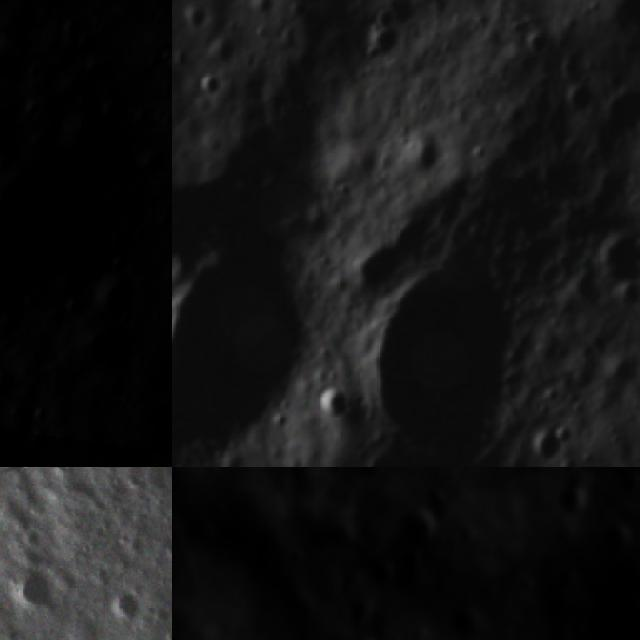crater: (358, 242, 552, 467), (172, 251, 346, 467), (0, 136, 107, 265), (54, 100, 131, 178), (2, 558, 74, 632), (83, 260, 151, 326), (0, 83, 41, 172), (100, 578, 158, 636), (597, 227, 640, 292), (402, 134, 451, 188), (310, 386, 376, 426), (363, 27, 412, 71), (10, 520, 56, 566), (394, 514, 440, 556), (595, 599, 640, 640), (196, 34, 242, 72), (559, 78, 599, 120), (186, 68, 229, 105), (0, 358, 30, 409), (58, 289, 96, 327), (367, 558, 400, 592), (612, 562, 640, 601), (453, 607, 485, 639), (606, 524, 633, 557), (556, 486, 580, 521), (424, 486, 451, 515), (511, 572, 539, 598), (355, 467, 392, 485), (160, 305, 172, 360), (400, 548, 422, 578), (338, 577, 360, 603), (346, 603, 373, 624), (460, 525, 481, 550), (269, 477, 290, 501), (204, 500, 226, 521)
